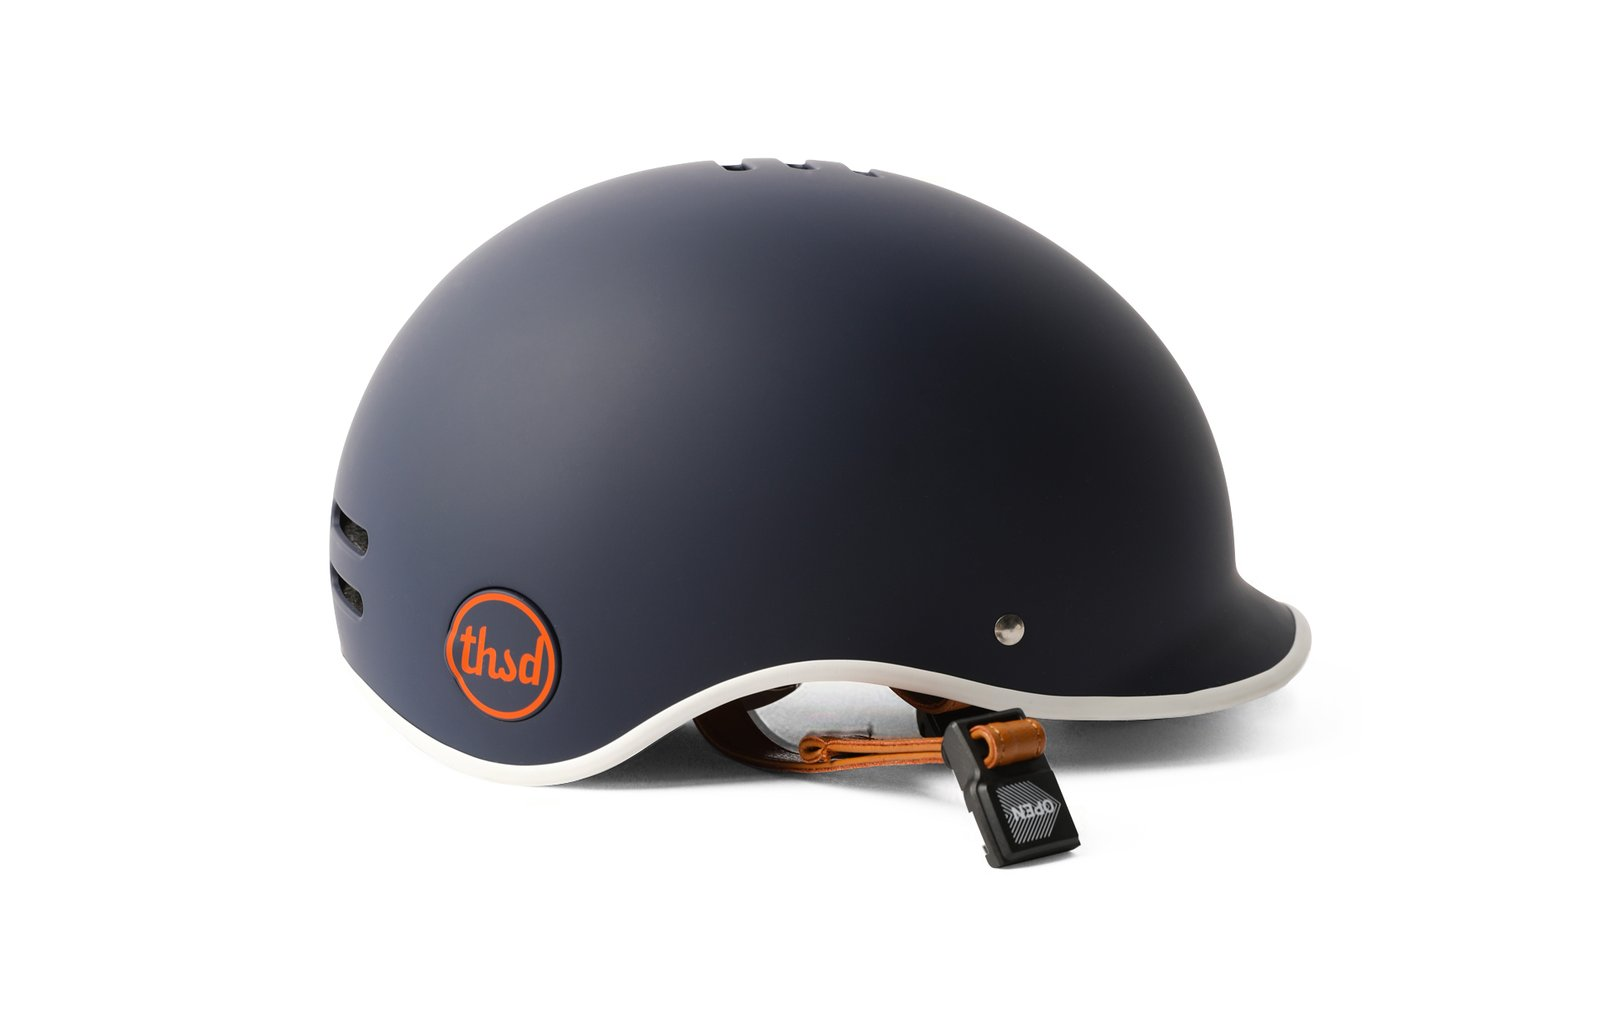helmet: (300, 111, 1392, 895)
